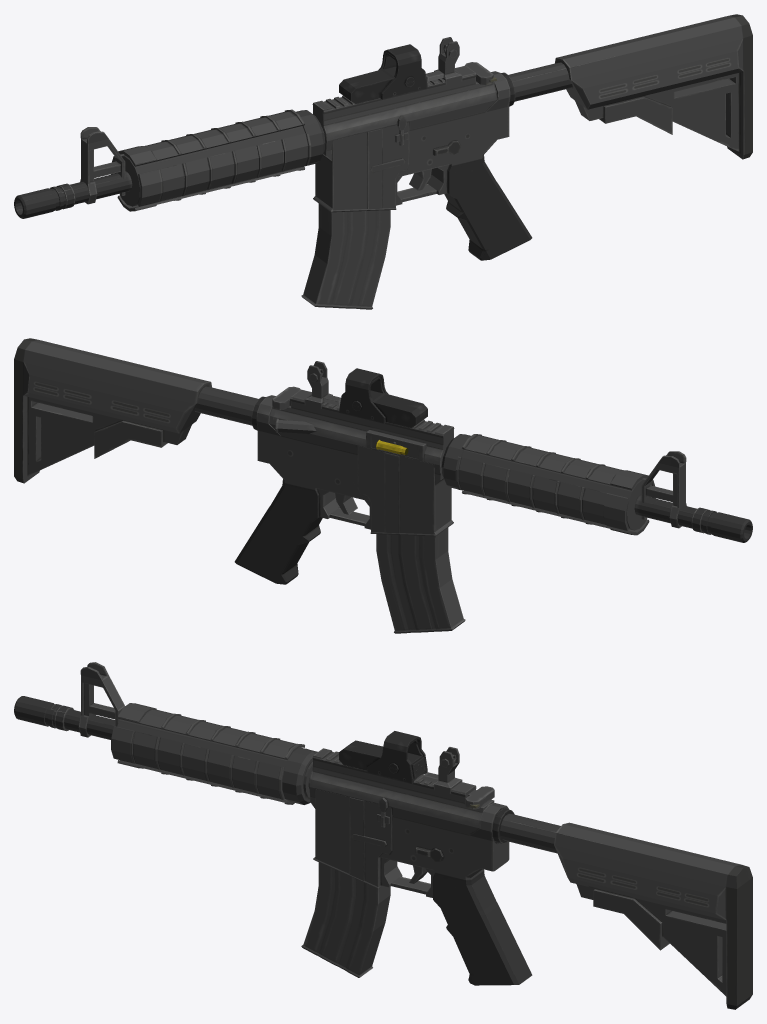
Rendered from gun2.glb.
3 renders of one model, top to bottom at view 1: azimuth 30°, elevation 25°; view 2: azimuth 150°, elevation 25°; view 3: azimuth 330°, elevation 25°, orthographic.
Visible parts, largest first — view 1: Object_3, Object_4; view 2: Object_3, Object_4; view 3: Object_3, Object_4.
Boxes of the visible parts, box(x1,y1,x2,y2) form: Object_3: box(14, 14, 752, 309); Object_4: box(339, 44, 427, 103); Object_3: box(14, 338, 752, 633); Object_4: box(339, 368, 427, 427); Object_3: box(14, 662, 752, 1009); Object_4: box(339, 731, 427, 783).
Bounding box in the file's own units: 5.7 × 1.85 × 0.4306.
4 materials, 3 textured.
